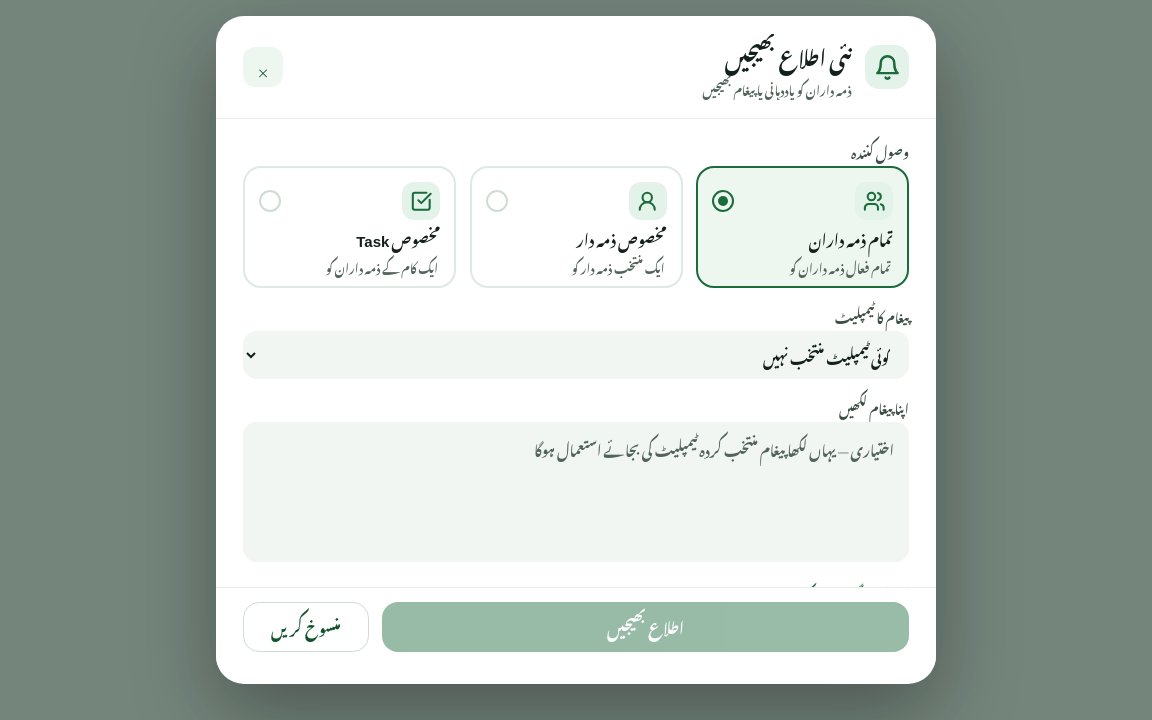
Test: SendNotificationDialog — the recipient cards still behave as radios › choosing a card still drives the rest of the form exactly as before
The image size is (1152, 720).
Expected: the field labelled "ذمہ دار منتخب کریں" is not shown
Click the radio button labelled "مخصوص ذمہ دار": (576, 227) [470,166,682,288]
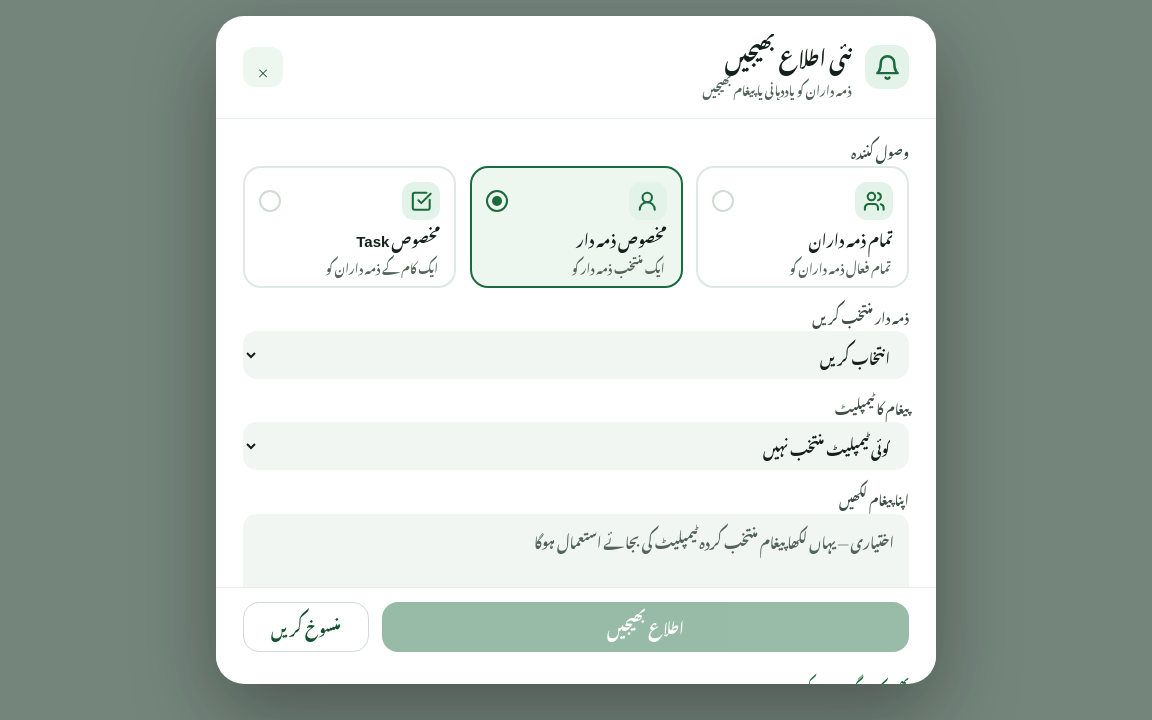
Expected: the dropdown labelled "ذمہ دار منتخب کریں" is shown, [243,331,909,379]
Click the radio button labelled "مخصوص Task": (350, 227) [243,166,456,288]
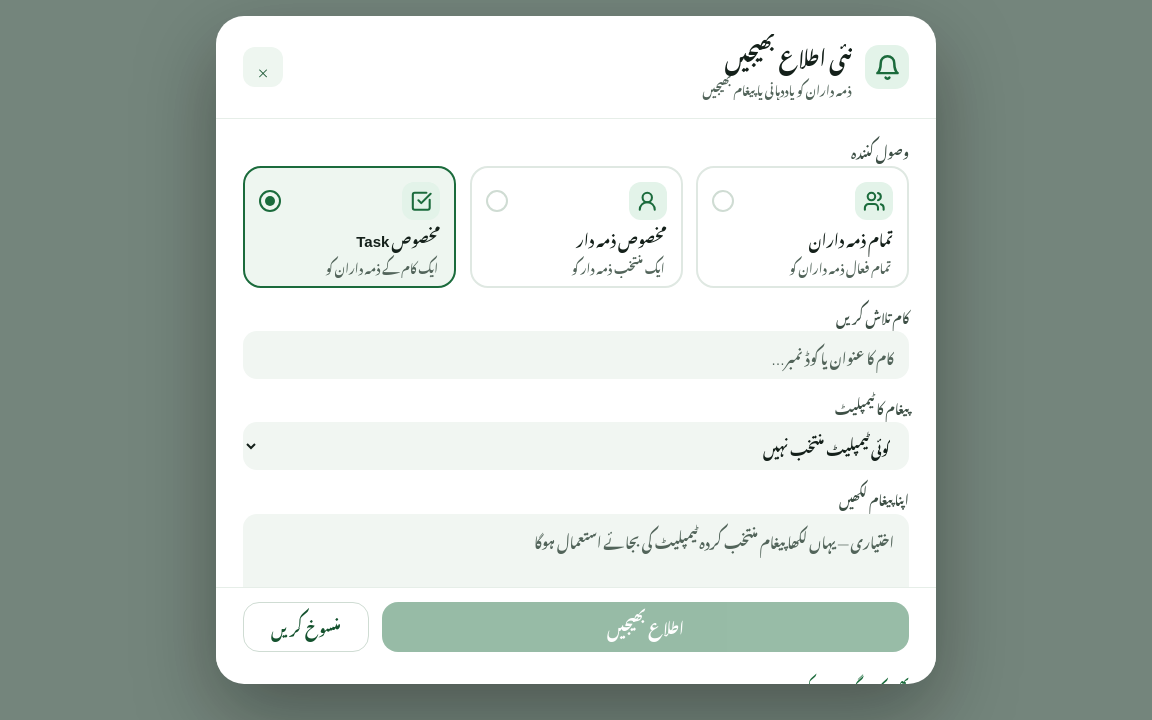
Expected: the label labelled "ذمہ دار منتخب کریں" is gone
Expected: the field labelled "کام تلاش کریں" is shown, [243,331,909,379]
